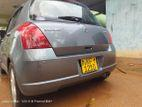car: (1, 0, 117, 105)
